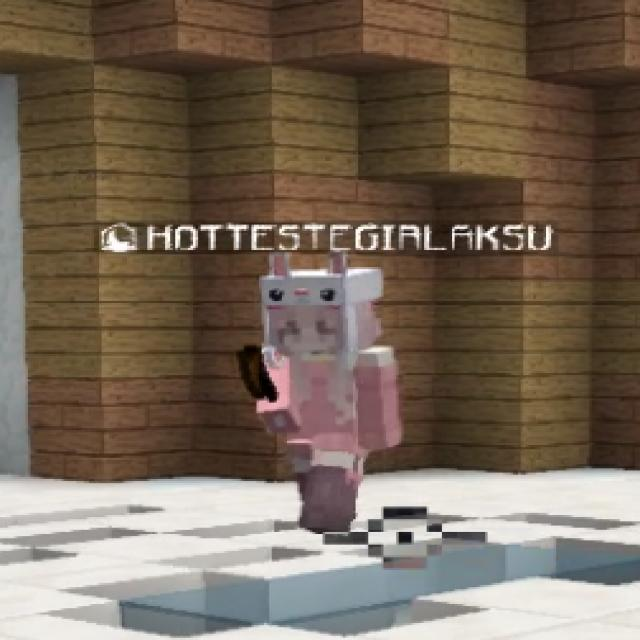Player: (243, 264, 405, 533)
